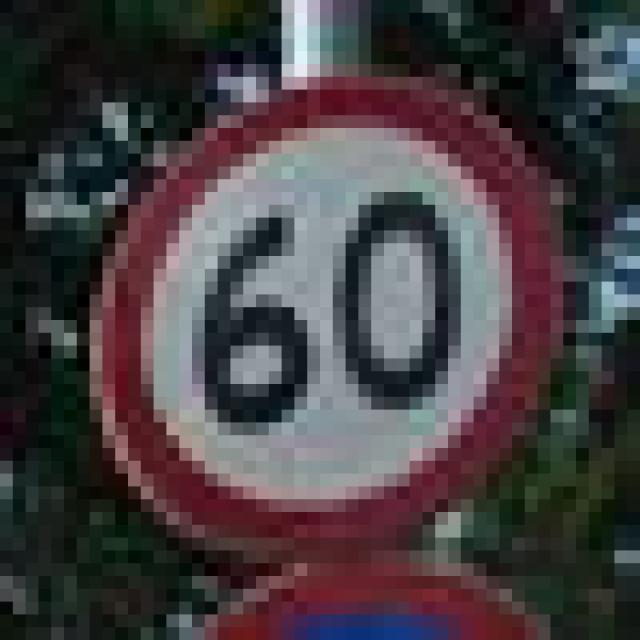speed_limit_40: (64, 39, 550, 538)
